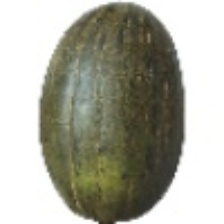honeydew: (41, 18, 204, 189)
